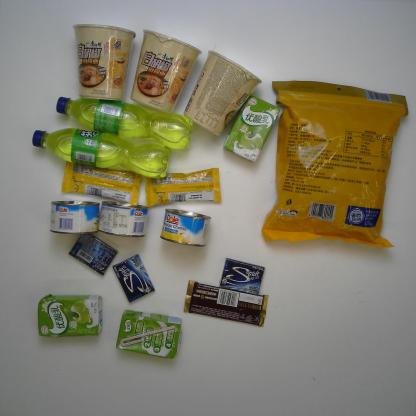Canned Food: (160, 208, 212, 249), (97, 200, 150, 238), (48, 199, 100, 236)
Chocolate: (182, 278, 270, 328), (60, 155, 142, 207), (142, 167, 223, 210)
Dried Food: (261, 80, 410, 248)
Drink: (30, 126, 172, 181), (54, 96, 195, 150)
Gum: (66, 230, 118, 277), (111, 253, 156, 305), (217, 256, 265, 296)
Instant Noodles: (183, 50, 262, 136), (131, 28, 204, 115), (72, 22, 137, 102)
Milk: (222, 94, 281, 164), (115, 310, 183, 360), (36, 293, 104, 339)
